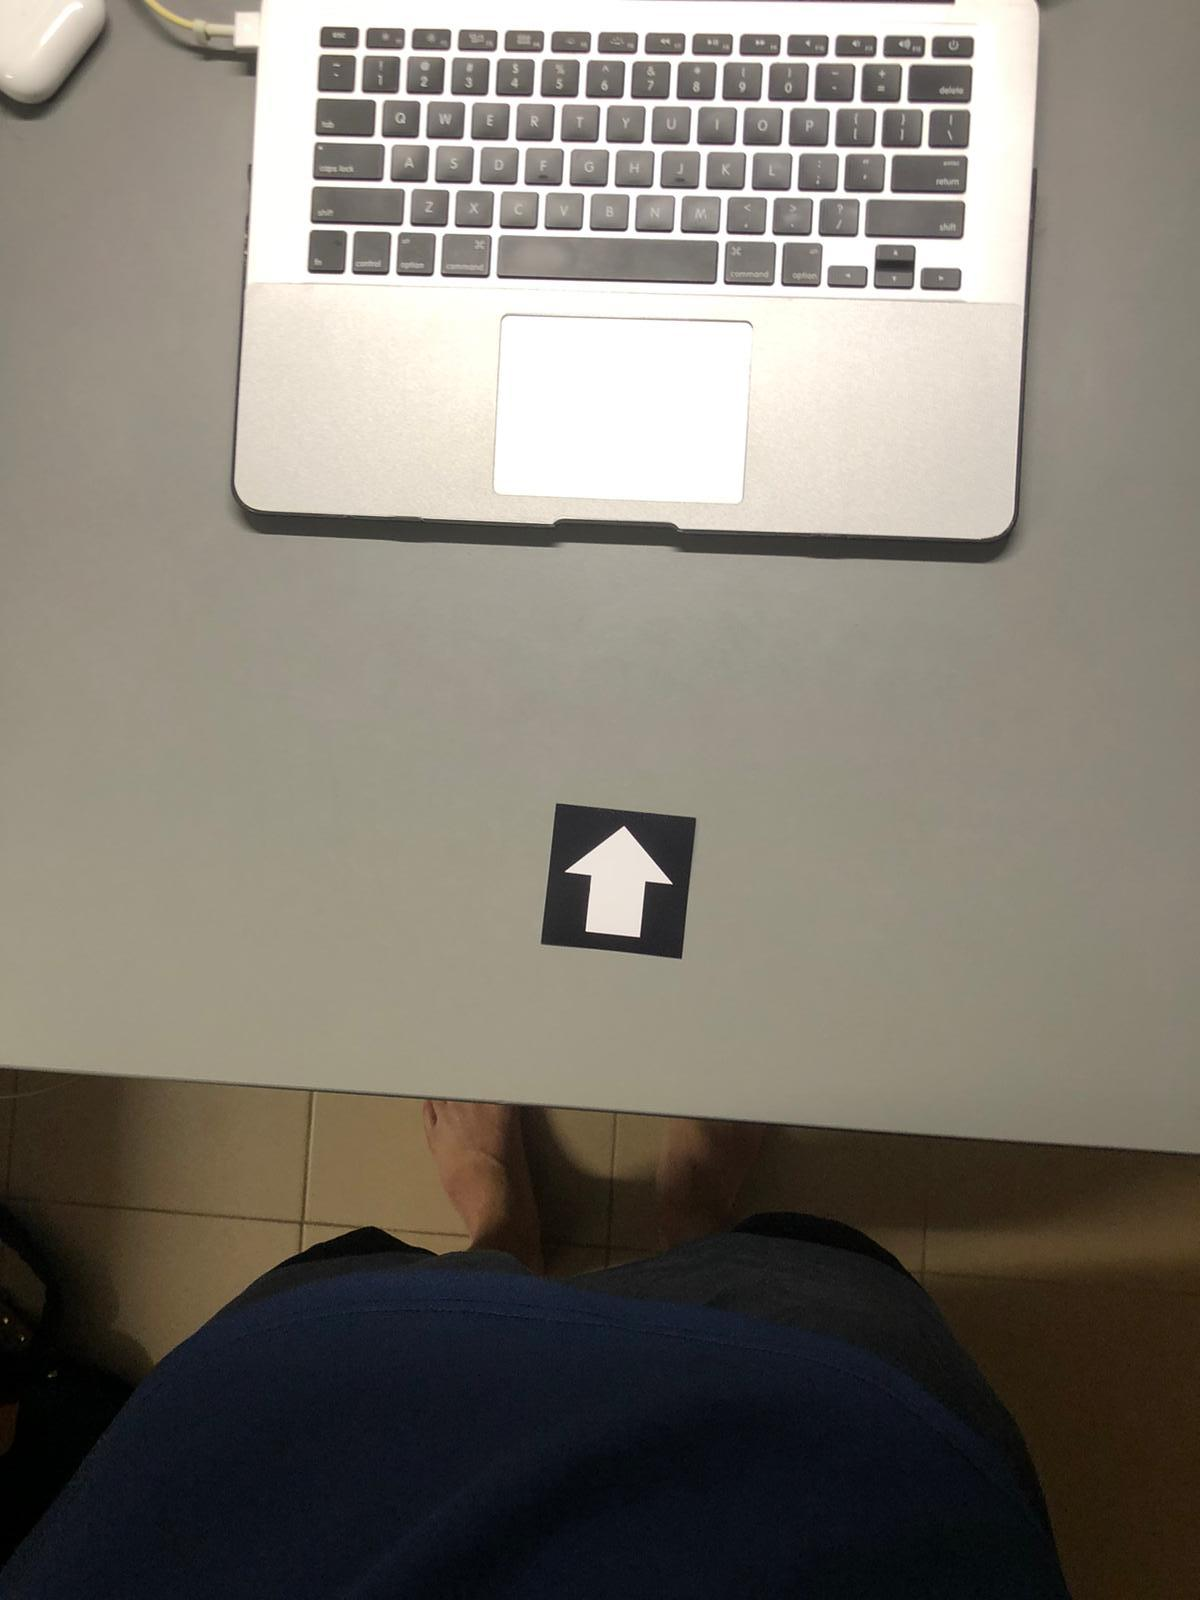Top Arrow: (558, 813, 695, 960)
